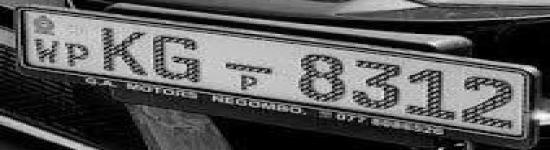-: (219, 61, 276, 75)
1: (403, 64, 459, 122)
2: (459, 72, 519, 130)
3: (347, 58, 404, 111)
8: (291, 50, 349, 103)
G: (150, 32, 205, 83)
K: (97, 24, 150, 77)
P: (65, 41, 92, 68)
W: (31, 38, 65, 66)
